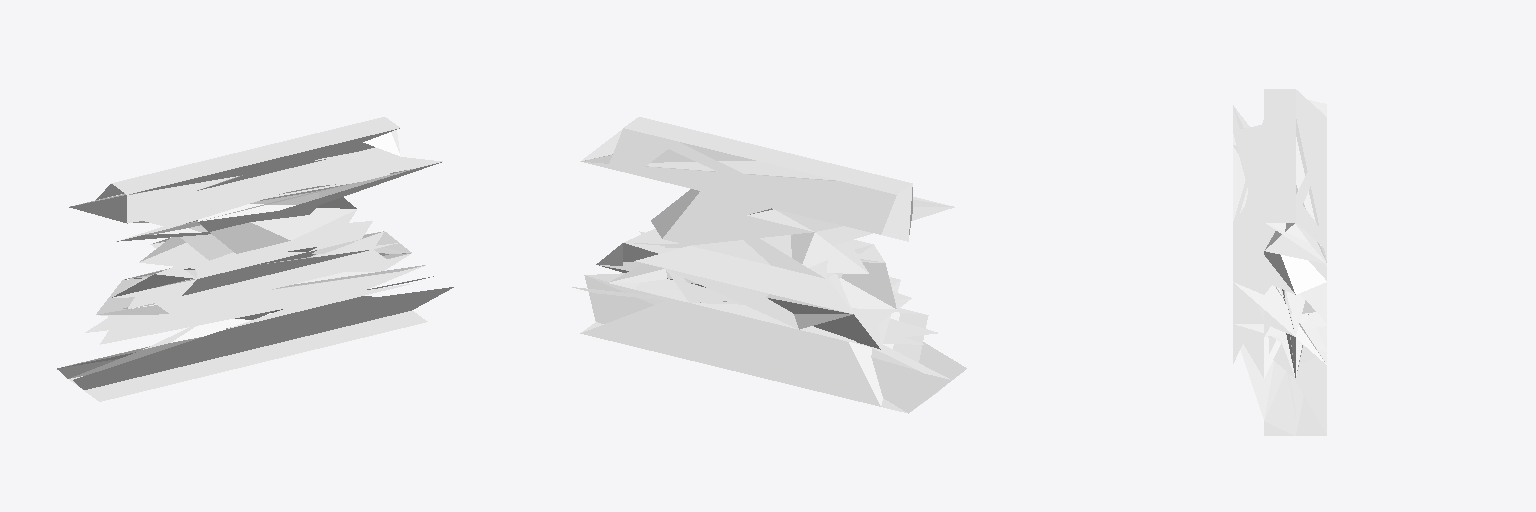
Rendered from goonba_0.obj.
The picture shows the model from 3 angles: view 1: azimuth 30°, elevation 25°; view 2: azimuth 150°, elevation 25°; view 3: azimuth 270°, elevation 25°; orthographic projection.
Bounding box in the file's own units: 14 × 7 × 3.